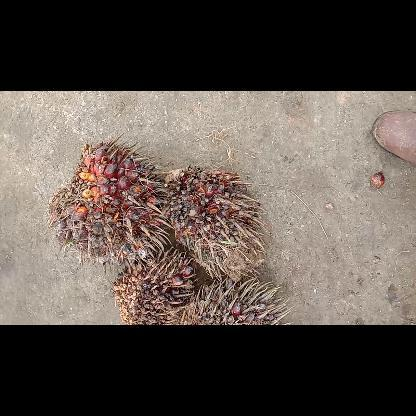TBS abnormal: (165, 167, 265, 277), (113, 248, 195, 324), (184, 280, 286, 324)
TBS masak: (49, 141, 165, 255)
